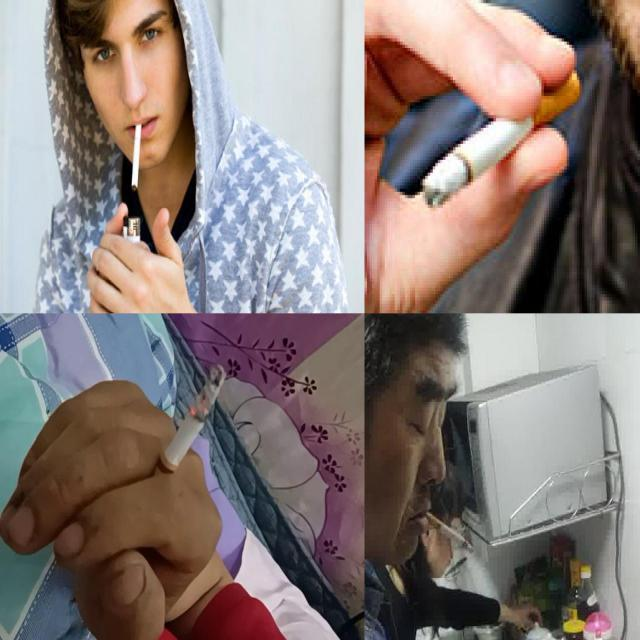cigarette: (0, 363, 228, 633), (363, 0, 582, 212), (424, 510, 474, 552), (132, 123, 142, 191)
